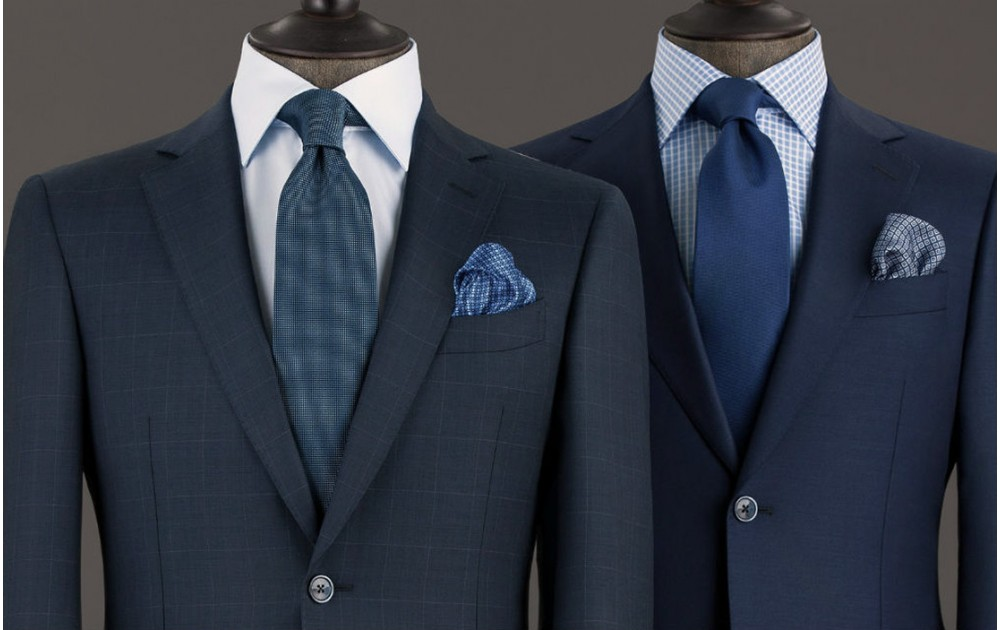tie: (673, 68, 829, 455), (258, 83, 380, 517)
